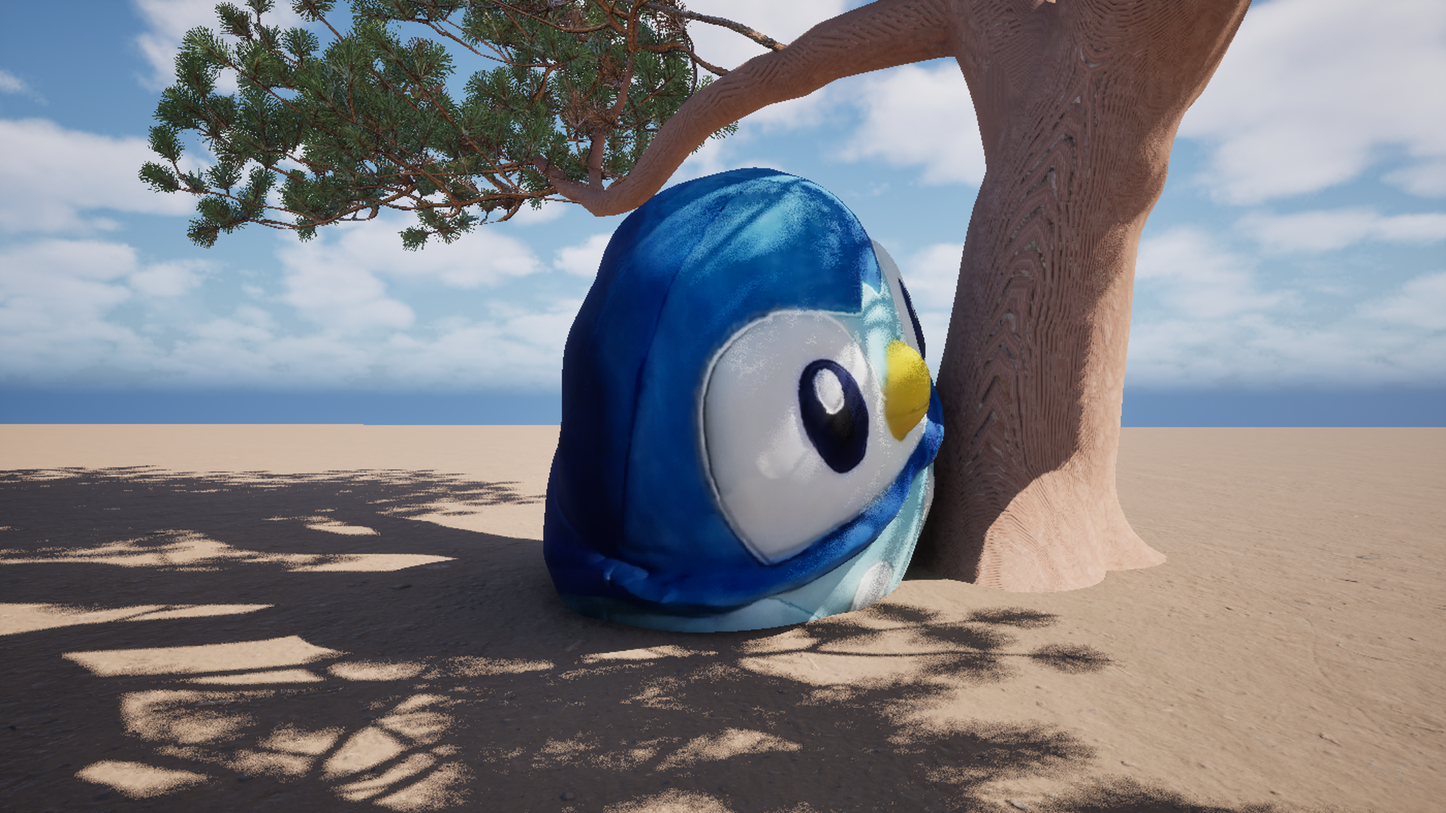Piplup: (45, 0, 1351, 813)
